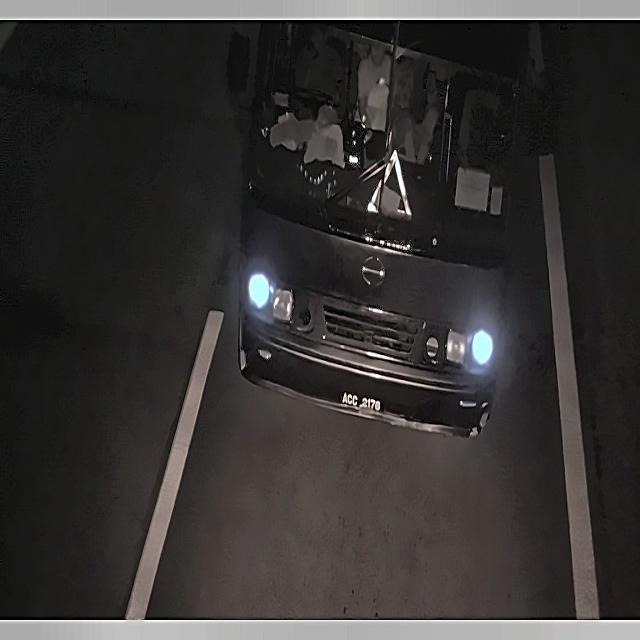car: (335, 385, 392, 423)
